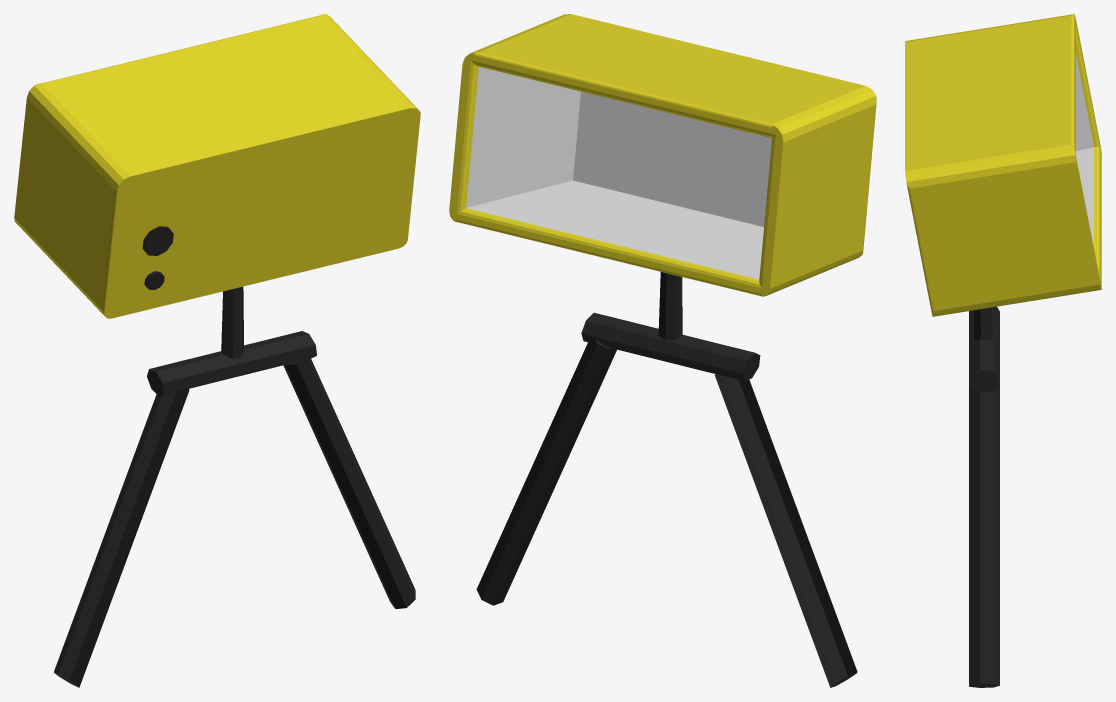
File: LightThingy.fbx
3 views of the same model, side by side, from view 1: azimuth 30°, elevation 25°; view 2: azimuth 150°, elevation 25°; view 3: azimuth 270°, elevation 25° (orthographic). The views are drawn at different scales.
Parts seen in each view (by area): view 1: Cube.002; view 2: Cube.002; view 3: Cube.002.
Part boxes in pixels (x1,y1,x2,y2): Cube.002: [14, 14, 420, 687]; Cube.002: [449, 14, 876, 687]; Cube.002: [905, 14, 1101, 687].
Bounding box in the file's own units: 88.48 × 134 × 44.87.
